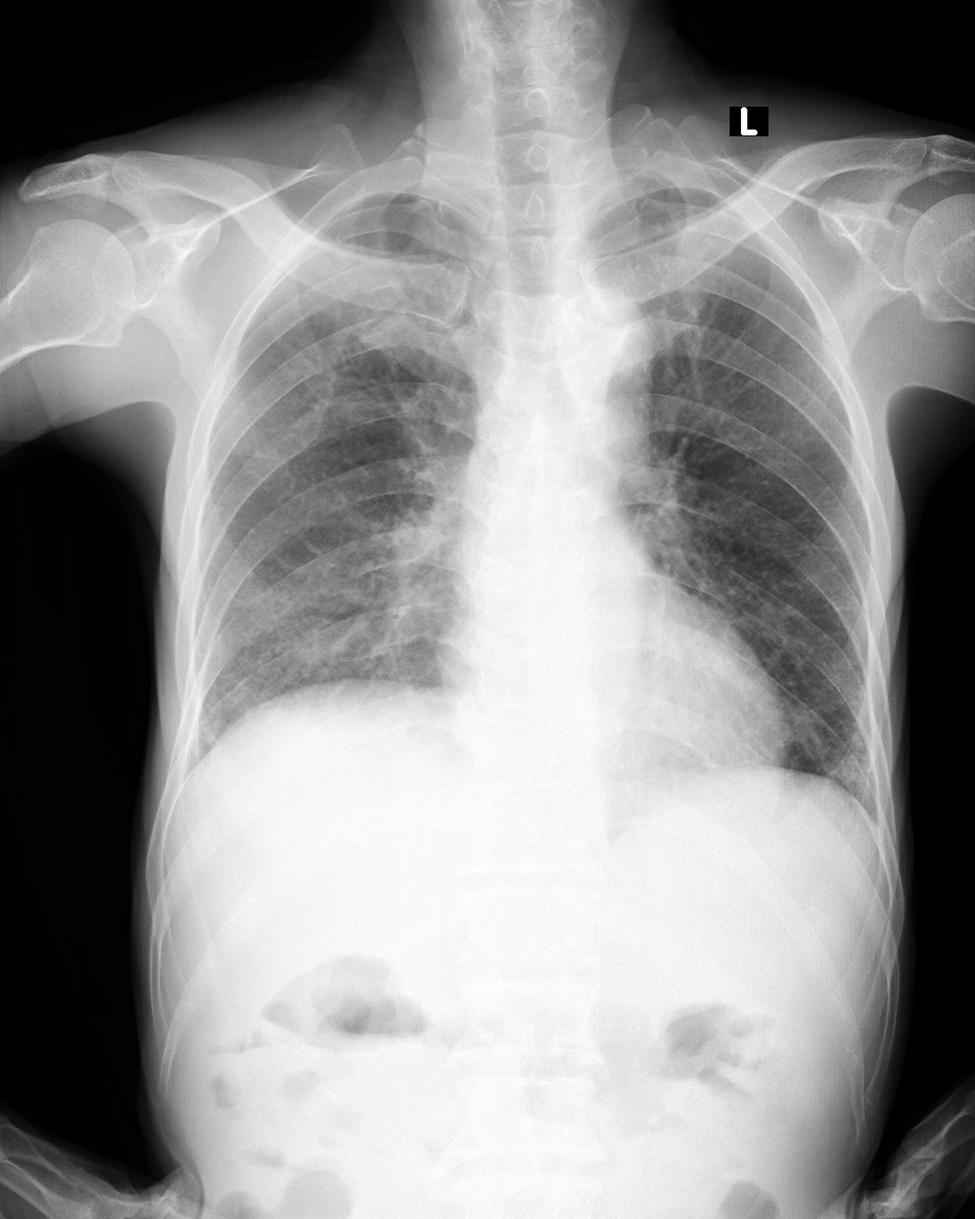Pulmonary fibrosis: (192, 546, 449, 738), (832, 723, 875, 810)
